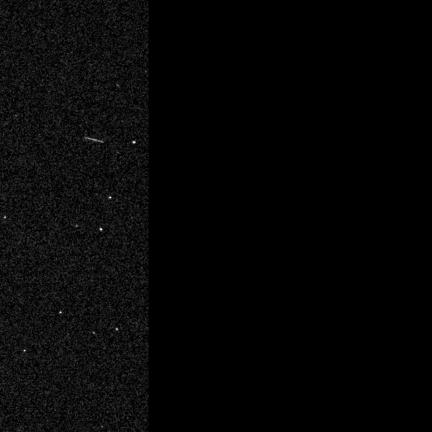blob: (100, 228, 103, 232), (133, 141, 137, 144), (60, 311, 63, 314), (116, 328, 119, 331), (109, 197, 112, 200), (24, 350, 26, 352)
streak: (85, 137, 103, 142)
